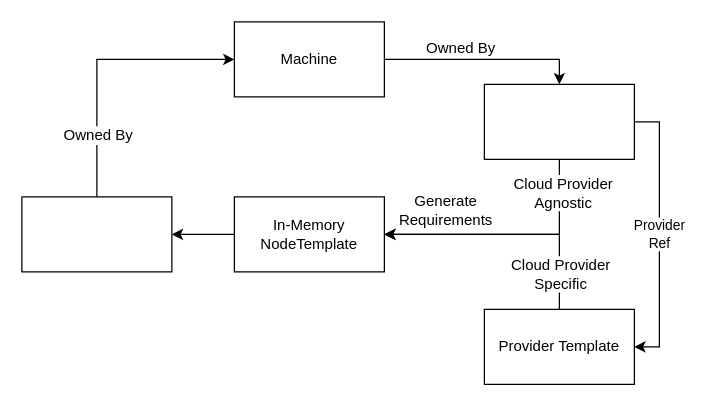
Image size: 706x406. Some labels were removed from this diagram. The box of each missing label's shape, as (x1, y1, x2, y2) in pixels:
Node: (21, 196, 172, 272)
ProvisionerSpec Template: (483, 83, 634, 159)
